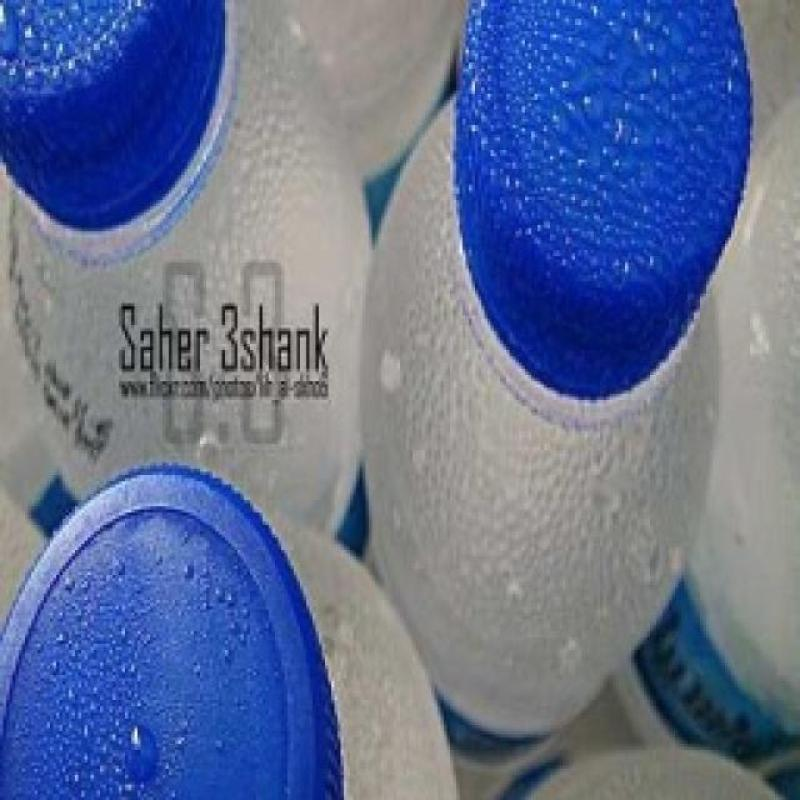botella: (362, 0, 750, 790), (0, 0, 375, 538), (0, 459, 462, 800), (609, 96, 800, 765), (235, 0, 464, 202), (498, 752, 792, 800)
